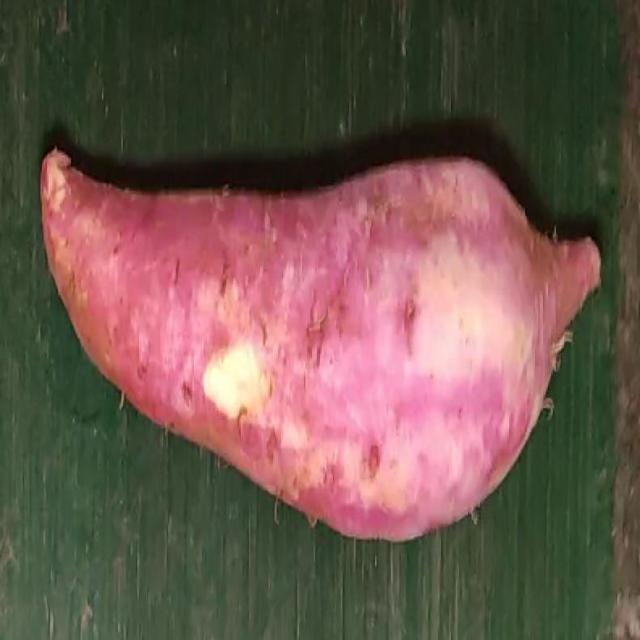Sweet Potato: (39, 147, 603, 544)
